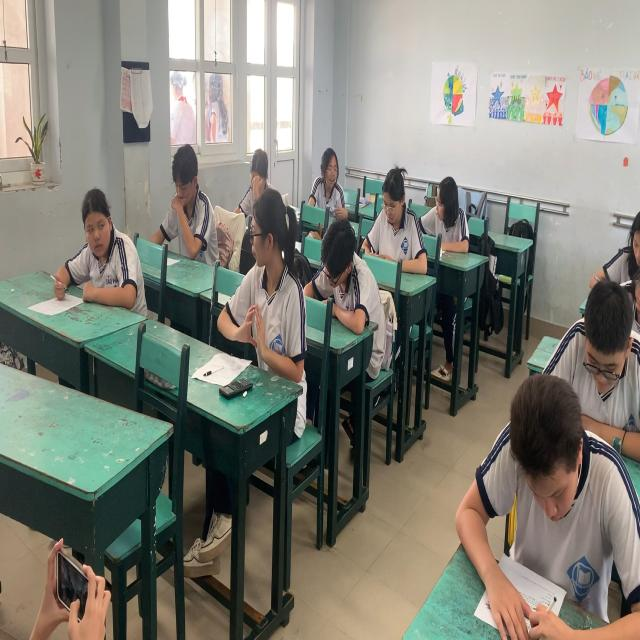cheating: (45, 177, 136, 340), (239, 188, 304, 406)
not_cheating: (474, 370, 606, 635), (553, 280, 638, 452), (304, 220, 383, 372), (150, 149, 217, 288), (581, 192, 640, 303), (409, 170, 468, 272), (362, 175, 414, 290), (606, 242, 640, 356), (296, 148, 336, 233), (230, 147, 269, 229)
